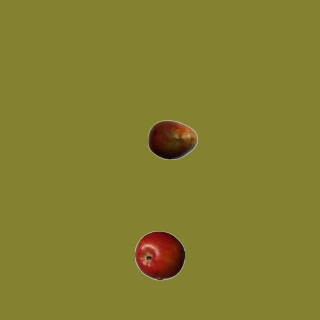Apple Braeburn: (134, 230, 184, 280)
Mango Red: (147, 114, 197, 164)
